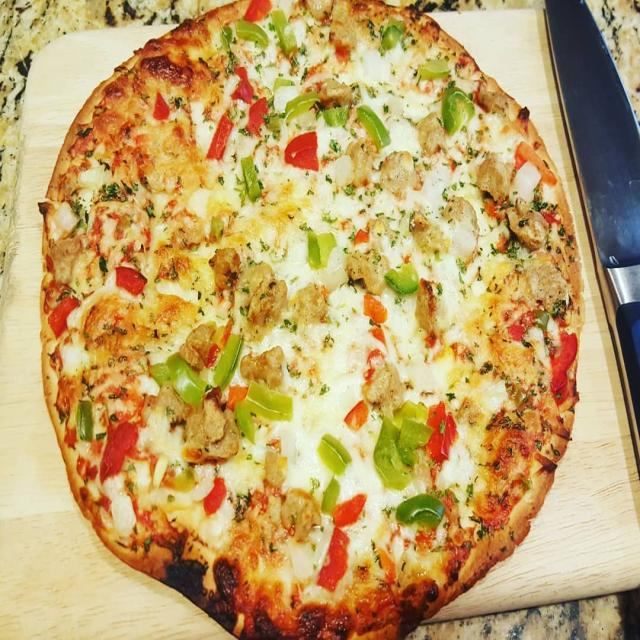pizza: (36, 0, 587, 640)
